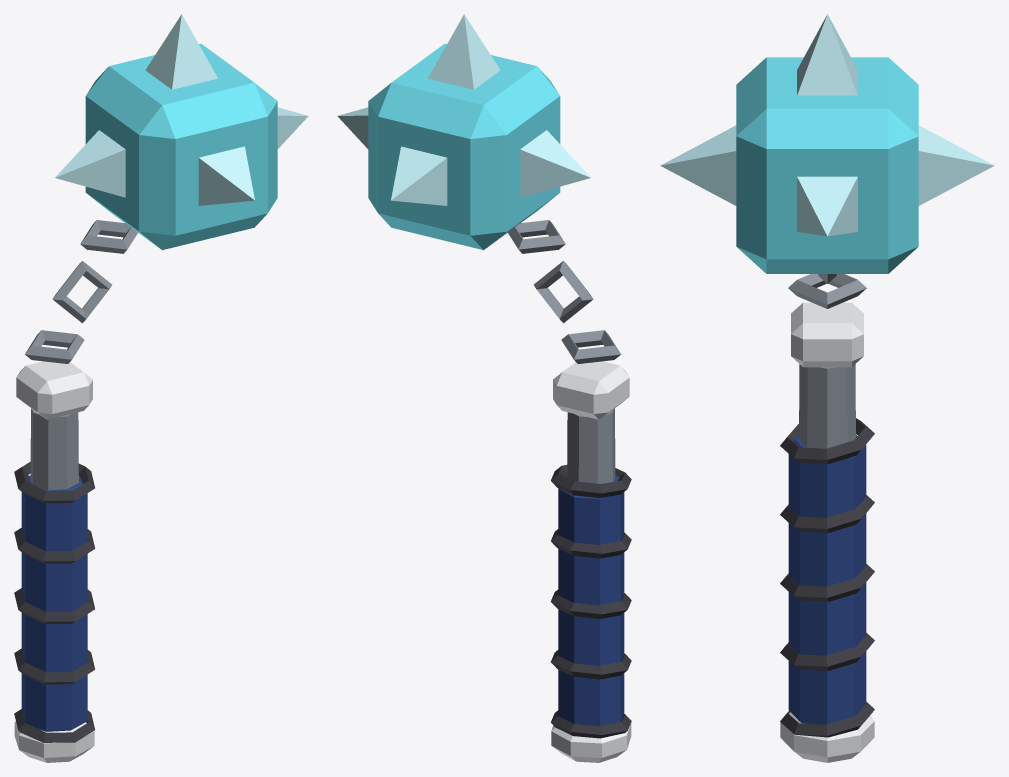
File: DiamondFlail.fbx
3 renders of one model, left to right at view 1: azimuth 30°, elevation 25°; view 2: azimuth 150°, elevation 25°; view 3: azimuth 270°, elevation 25°, orthographic. The views are drawn at different scales.
Parts seen in each view (by area): view 1: DiamondFlail; view 2: DiamondFlail; view 3: DiamondFlail.
Boxes of the visible parts, box(x1,y1,x2,y2) form: DiamondFlail: box(14, 14, 308, 762); DiamondFlail: box(337, 14, 631, 762); DiamondFlail: box(660, 14, 994, 762).
Size of the model in its own units: 1.26 by 2.92 by 1.1.
1 material, 1 textured.
